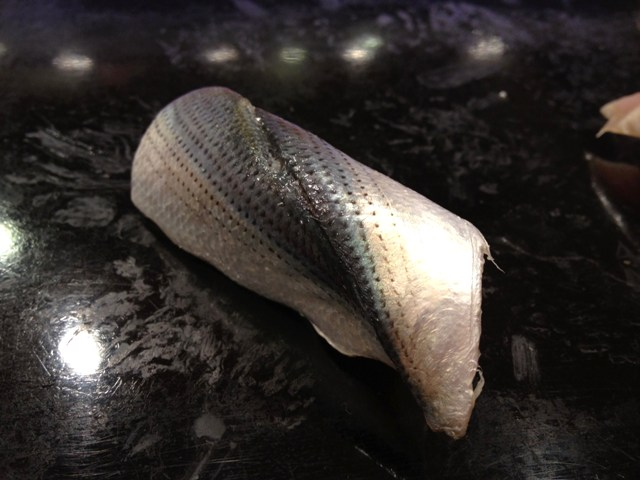spotted-shad: (125, 82, 490, 441)
